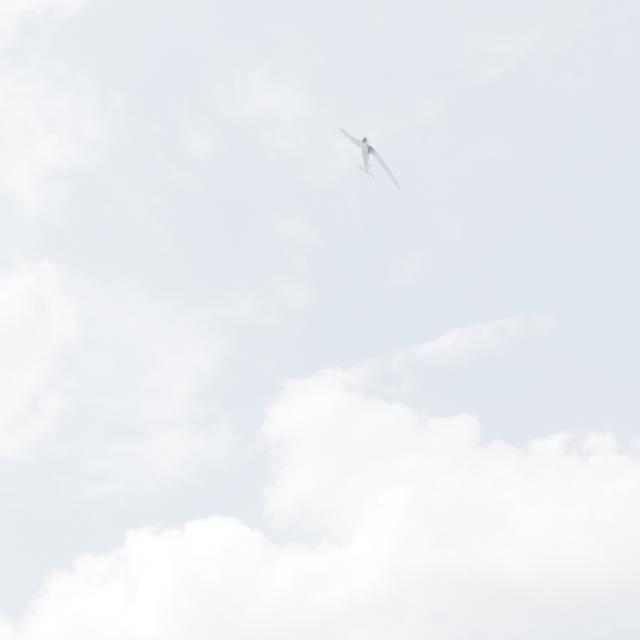Airaplan: (340, 127, 400, 189)
